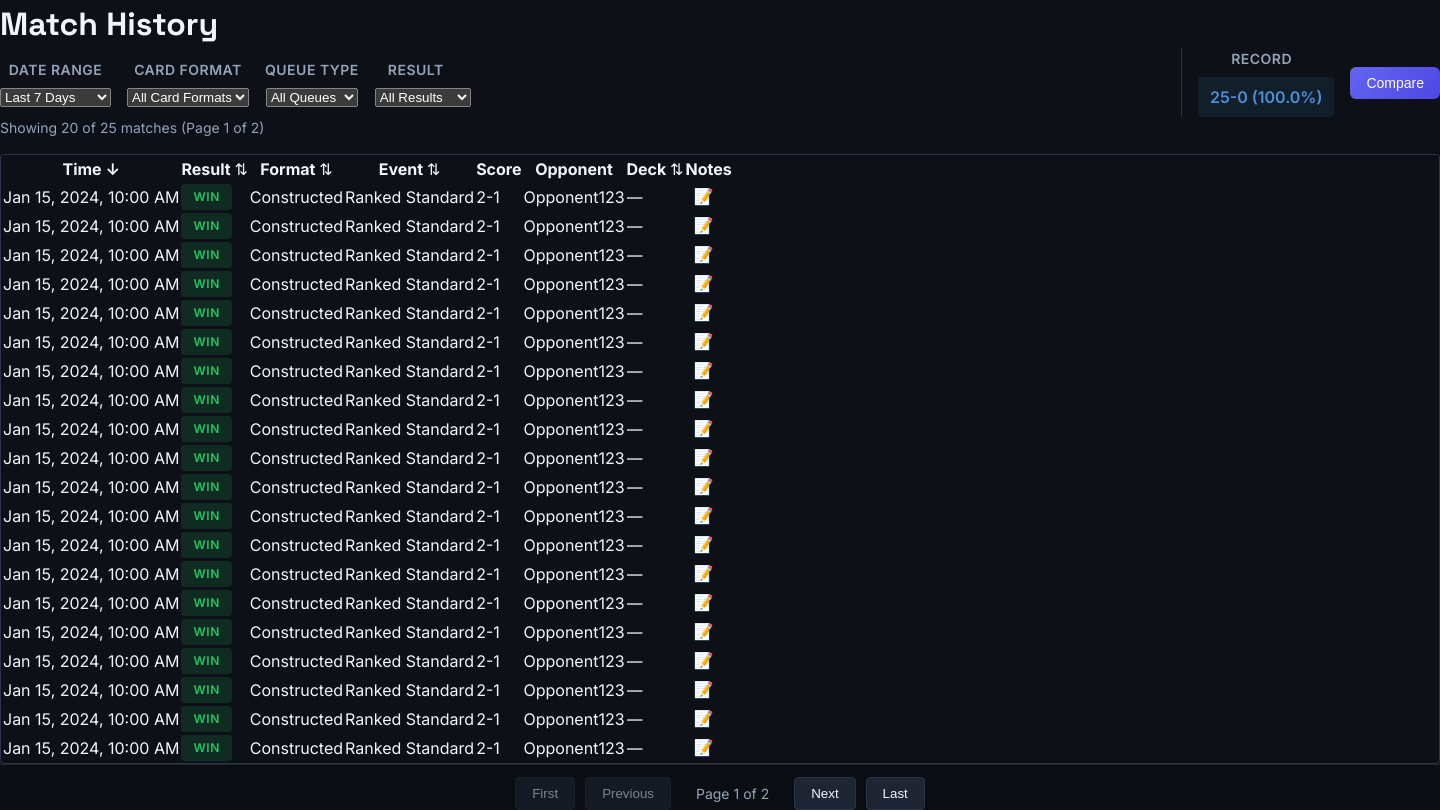
Test: MatchHistory › Pagination › should navigate to next page
Expected: the text "Page 1 of 2" is shown, [696,785,769,802]
Click the button "Next".
click(825, 794)  # box [794,777,856,809]
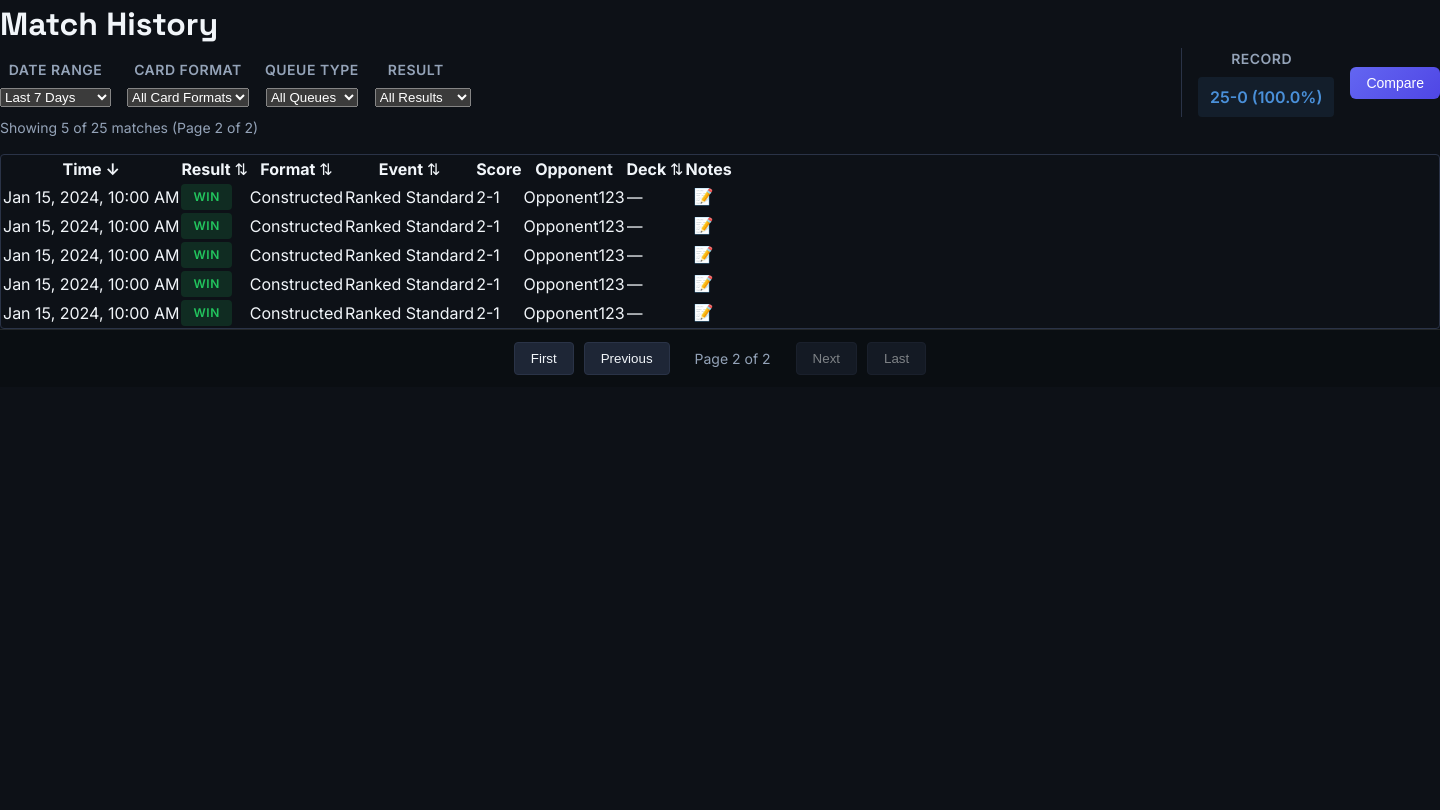
Expected: the text "Page 2 of 2" is shown, [695,350,771,367]
